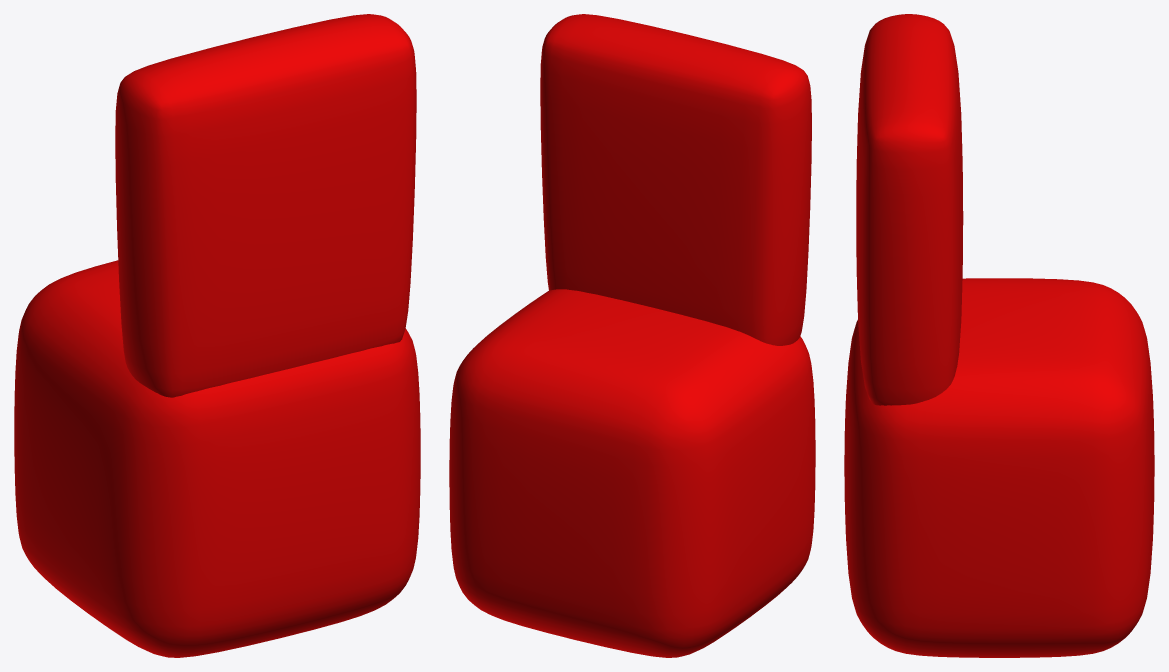
File: CHAIR.fbx
3 renders of one model, left to right at view 1: azimuth 30°, elevation 25°; view 2: azimuth 150°, elevation 25°; view 3: azimuth 270°, elevation 25°, orthographic. The views are drawn at different scales.
Visible parts, largest first — view 1: CHAIR; view 2: CHAIR; view 3: CHAIR.
Part boxes in pixels (x1=…): CHAIR: x1=14, y1=14, x2=420, y2=657; CHAIR: x1=449, y1=14, x2=815, y2=657; CHAIR: x1=844, y1=14, x2=1154, y2=657.
Bounding box in the file's own units: 0.6839 × 1.28 × 0.6479.
